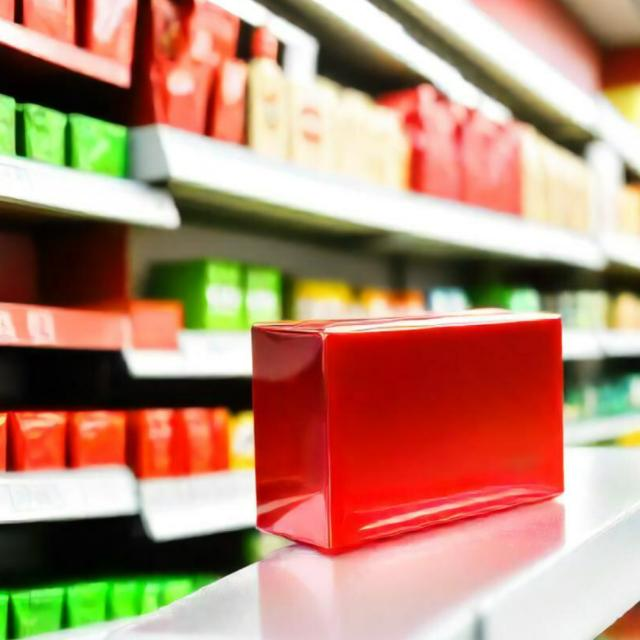red_block: (253, 311, 567, 536)
